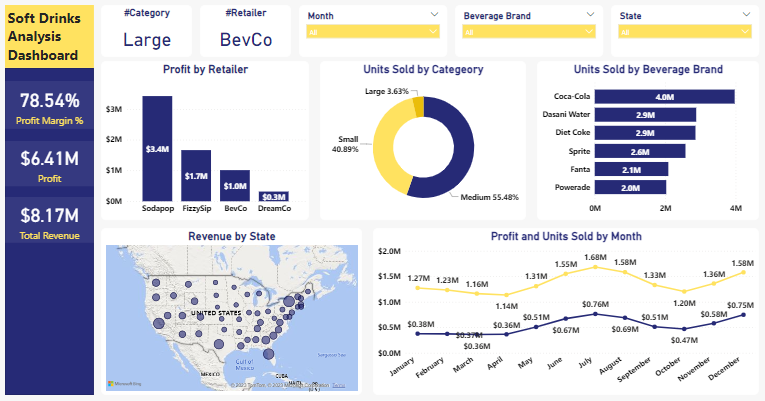

This screenshot's page, from the dashboard's own definition file:
{"tool":"powerbi","page":{"name":"Page 1","canvas":[1480,775],"ordinal":0},"visuals":[{"type":"card","title":"#Category","fields":{"Values":["Min(Data.Catgeory)"]},"box":[200,13.5,175,100],"z":2000},{"type":"card","title":"#Retailer","fields":{"Values":["Min(Data.Retailer)"]},"box":[390.2,13.5,175,100],"z":3000},{"type":"map","title":"Revenue by State","fields":{"Size":["Data.Total Revenue"],"Category":["Data.State"]},"box":[200,442.3,501.9,321.2],"z":4000},{"type":"clusteredColumnChart","fields":{"Category":["Data.Retailer"],"Y":["Data.Profit"]},"box":[200,121.2,400,305.8],"z":6000},{"type":"donutChart","title":"Units Sold by Categeory","fields":{"Category":["Data.Catgeory"],"Y":["Sum(Data.Units Sold)"]},"box":[621.2,121.2,396.2,305.8],"z":7000},{"type":"lineChart","title":"Profit and Units Sold by Month","fields":{"Category":["Data.Date.Variation.Date Hierarchy.Month"],"Y":["Data.Profit","Sum(Data.Units Sold)"]},"box":[723.1,442.3,742.3,321.2],"z":8000},{"type":"clusteredBarChart","title":"Units Sold by Beverage Brand","fields":{"Category":["Data.Beverage Brand"],"Y":["Sum(Data.Units Sold)"]},"box":[1038.5,121.2,426.9,305.8],"z":9000},{"type":"textbox","box":[15.4,13.5,171.2,121.2],"z":11000},{"type":"shape","box":[15.4,134.6,171.2,628.8],"z":12000},{"type":"slicer","fields":{"Values":["Data.Date.Variation.Date Hierarchy.Month"]},"box":[580.4,13.5,285,100],"z":13000},{"type":"slicer","fields":{"Values":["Data.Beverage Brand"]},"box":[880.6,13.5,285,100],"z":14000},{"type":"card","title":"#Total Profits","fields":{"Values":["Data.Profit"]},"box":[15.4,275,171.2,86.5],"z":14500},{"type":"card","title":"#Total Revenue","fields":{"Values":["Data.Total Revenue"]},"box":[15.4,382.7,171.2,88.5],"z":14750},{"type":"slicer","fields":{"Values":["Data.State"]},"box":[1180.4,13.5,285,100],"z":15000},{"type":"card","fields":{"Values":["Data.Profit Margin %"]},"box":[15.4,159.6,171.2,92.3],"z":15500}]}

Visuals, with their boxes in screenshot pixels (x1, y1, x2, y2), scaled from the page's 1480x775 canvas onto the 765x401 screenshot:
"#Category" card: [left=103, top=7, right=194, bottom=59]
"#Retailer" card: [left=202, top=7, right=292, bottom=59]
"Revenue by State" map: [left=103, top=229, right=363, bottom=395]
clusteredColumnChart - Data.Retailer x Data.Profit: [left=103, top=63, right=310, bottom=221]
"Units Sold by Categeory" donutChart: [left=321, top=63, right=526, bottom=221]
"Profit and Units Sold by Month" lineChart: [left=374, top=229, right=757, bottom=395]
"Units Sold by Beverage Brand" clusteredBarChart: [left=537, top=63, right=757, bottom=221]
textbox: [left=8, top=7, right=96, bottom=70]
shape: [left=8, top=70, right=96, bottom=395]
slicer - Data.Date.Variation.Date Hierarchy.Month: [left=300, top=7, right=447, bottom=59]
slicer - Data.Beverage Brand: [left=455, top=7, right=602, bottom=59]
"#Total Profits" card: [left=8, top=142, right=96, bottom=187]
"#Total Revenue" card: [left=8, top=198, right=96, bottom=244]
slicer - Data.State: [left=610, top=7, right=757, bottom=59]
card - Data.Profit Margin %: [left=8, top=83, right=96, bottom=130]
